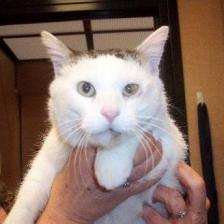cat: (38, 26, 174, 146)
